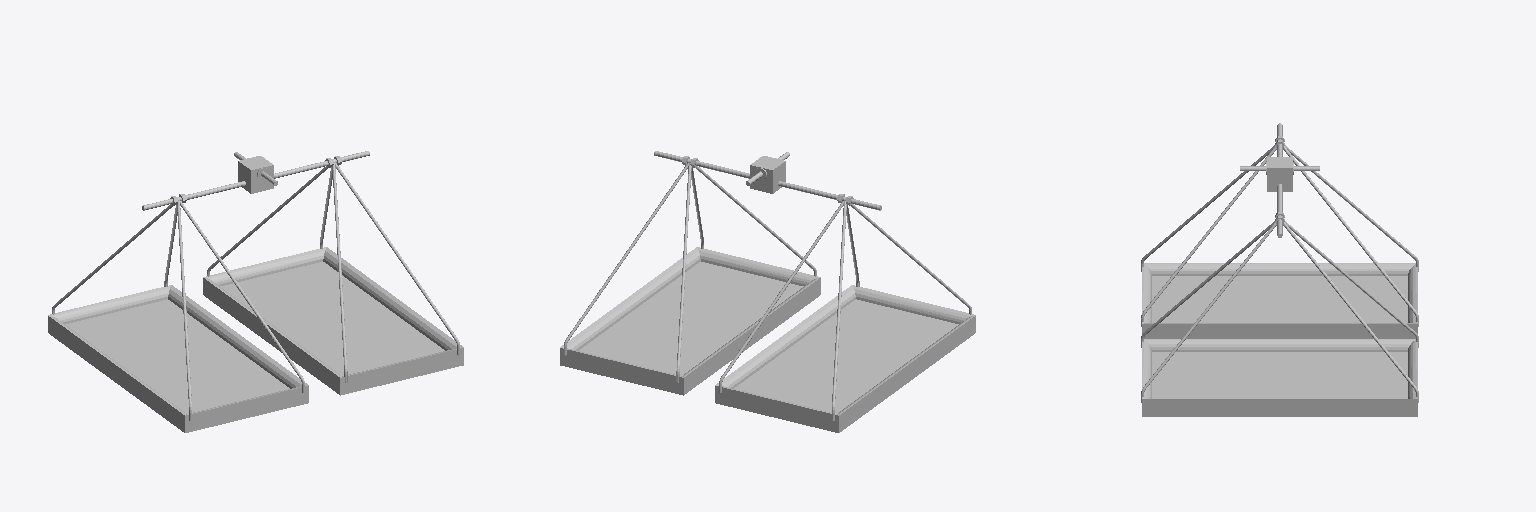
The model's file is Scale_scale.obj.
The picture shows the model from 3 angles: view 1: azimuth 30°, elevation 25°; view 2: azimuth 150°, elevation 25°; view 3: azimuth 270°, elevation 25°; orthographic projection.
Bounding box in the file's own units: 495 × 315 × 427.